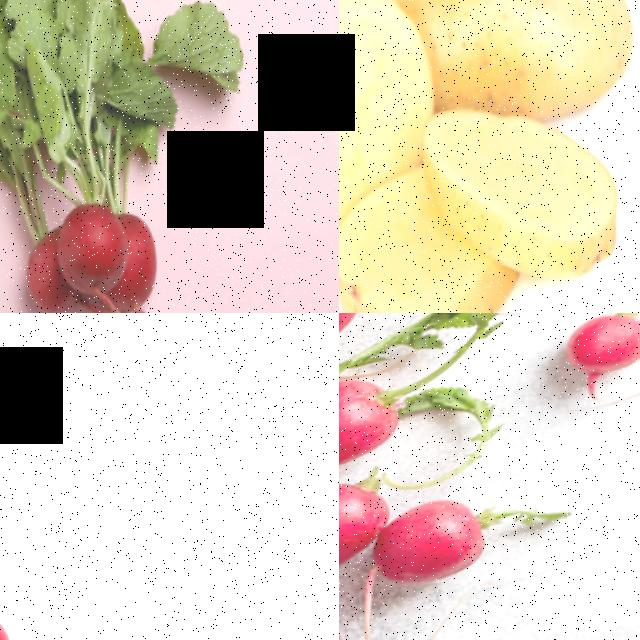potato: (411, 71, 640, 302), (387, 0, 640, 119), (339, 0, 452, 236)
radishes: (0, 53, 202, 313)
spinach: (364, 478, 522, 594), (339, 350, 444, 473), (339, 462, 410, 581), (549, 313, 640, 390)
